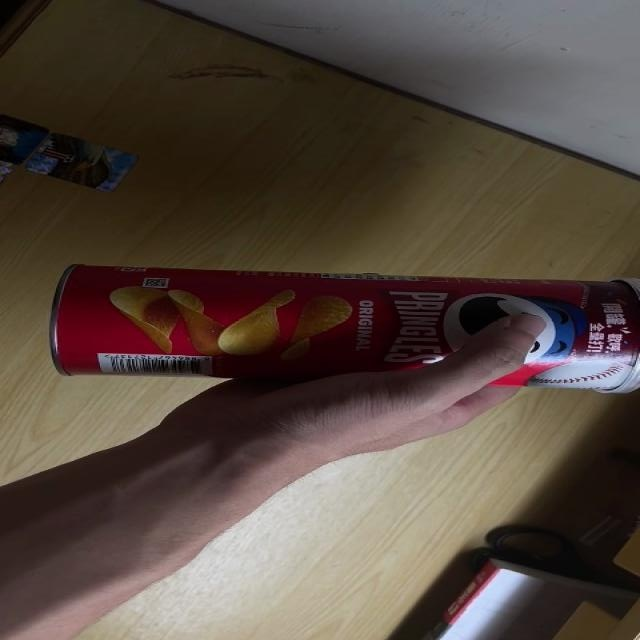Pringles: (56, 266, 640, 392)
